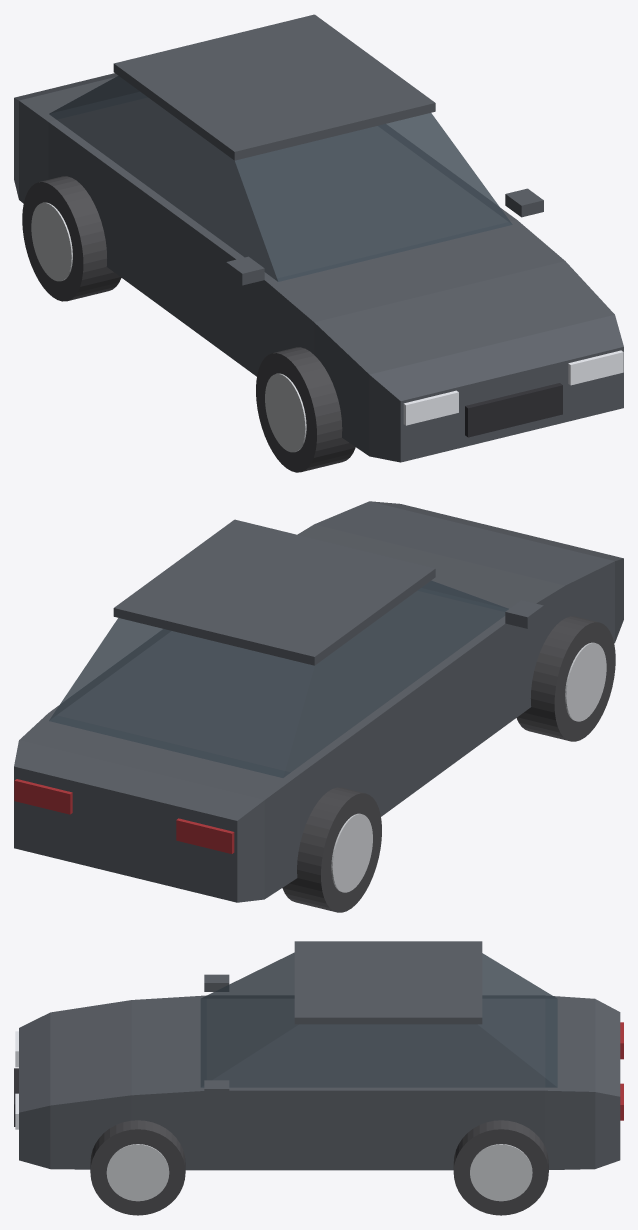
Rendered from hero-compressed.glb.
3 renders of one model, top to bottom at view 1: azimuth 30°, elevation 25°; view 2: azimuth 150°, elevation 25°; view 3: azimuth 270°, elevation 25°, orthographic. The views are drawn at different scales.
Visible parts, largest first — view 1: Body, Glass, Roof, Tire_FR, Tire_RR, Grille, Rim_RR, Rim_FR, Headlight_L, Headlight_R, Mirror_L, Mirror_R; view 2: Body, Glass, Roof, Tire_RR, Tire_FR, Rim_RR, Rim_FR, Taillight_L, Taillight_R, Mirror_R; view 3: Body, Glass, Roof, Tire_RL, Tire_FL, Rim_RL, Rim_FL, Mirror_L, Mirror_R.
Boxes of the visible parts, x1,y1,x2,y2 form: Body: (14,73,623,462); Glass: (49,76,512,281); Roof: (113,14,435,160); Tire_FR: (256,347,355,472); Tire_RR: (22,176,121,301); Grille: (465,383,562,437); Rim_RR: (31,202,72,281); Rim_FR: (265,373,306,452); Headlight_L: (568,350,623,385); Headlight_R: (403,390,458,425); Mirror_L: (505,188,543,217); Mirror_R: (226,256,264,285); Body: (14,501,623,902); Glass: (49,580,508,777); Roof: (113,519,435,665); Tire_RR: (282,787,381,912); Tire_FR: (516,616,615,741); Rim_RR: (331,813,372,892); Rim_FR: (565,642,606,721); Taillight_L: (14,779,72,814); Taillight_R: (176,818,234,853); Mirror_R: (505,600,543,628); Body: (19,995,620,1170); Glass: (200,952,557,1087); Roof: (294,941,482,1024); Tire_RL: (453,1120,548,1215); Tire_FL: (90,1120,185,1215); Rim_RL: (470,1144,532,1201); Rim_FL: (106,1144,169,1201); Mirror_L: (204,1080,229,1097); Mirror_R: (204,974,229,991).
Bounding box in the file's own units: 2.16 × 1.58 × 4.87.
